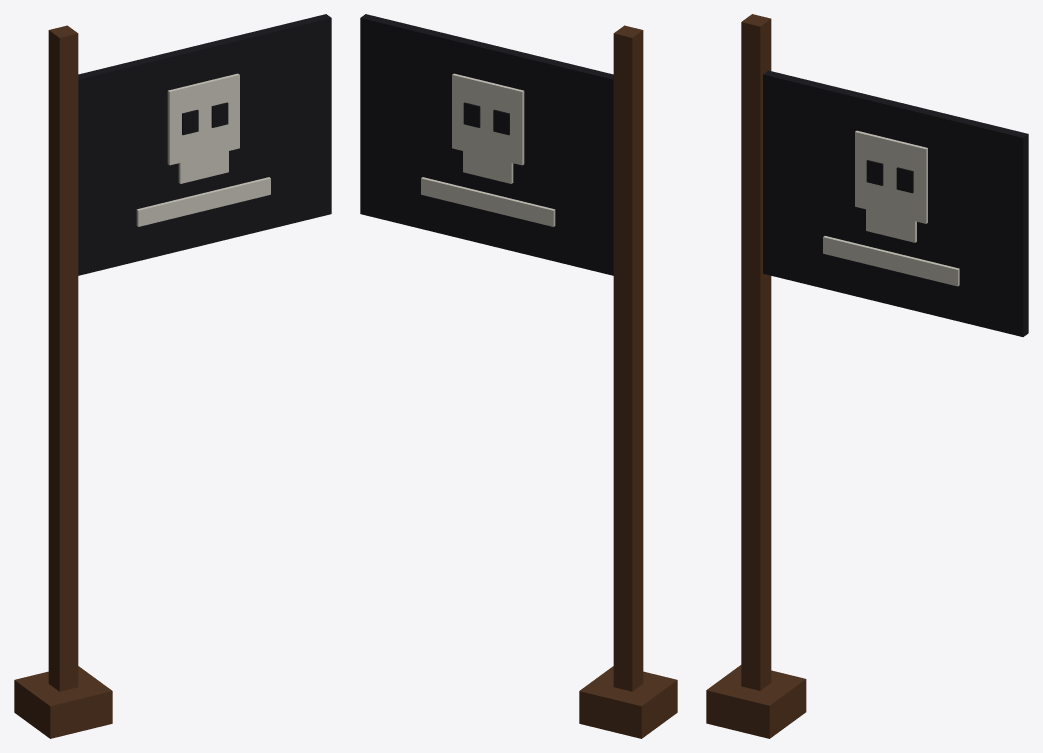
File: dba-skull-flag.glb
The picture shows the model from 3 angles, left to right: view 1: azimuth 30°, elevation 25°; view 2: azimuth 150°, elevation 25°; view 3: azimuth 330°, elevation 25°; orthographic projection.
Visible parts, largest first — view 1: box-prop; view 2: box-prop; view 3: box-prop.
Boxes of the visible parts, left/top/right/bottom form: box-prop: left=14, top=14, right=331, bottom=738; box-prop: left=360, top=14, right=677, bottom=738; box-prop: left=706, top=14, right=1028, bottom=738.
Size of the model in its own units: 1.9 by 4.2 by 0.4.
